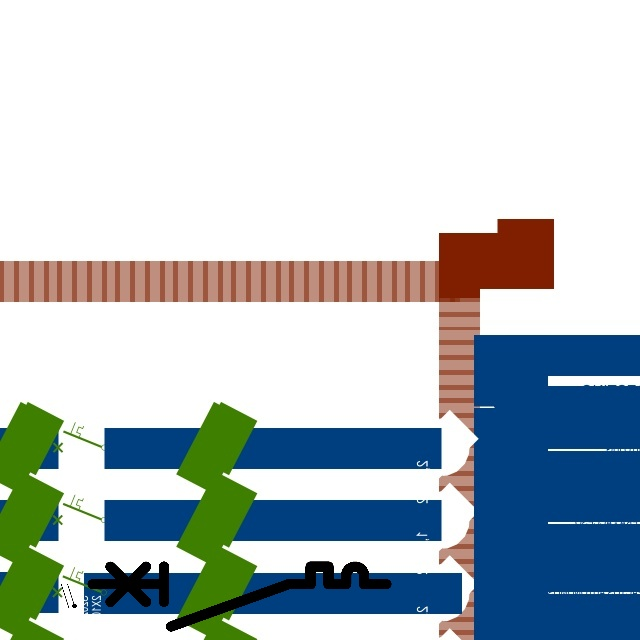interruptor_termomagnetico: (85, 559, 394, 634)
